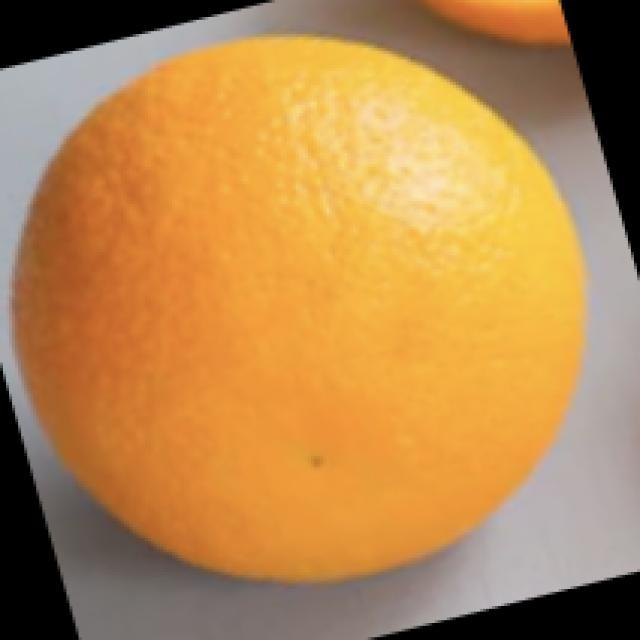Orange: (10, 32, 588, 584)
